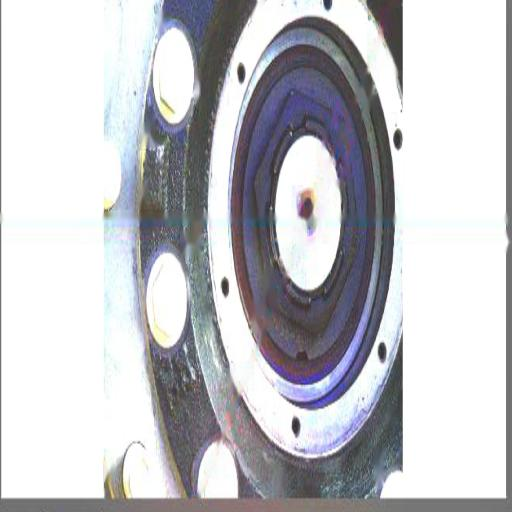center: (298, 191, 316, 225)
notch: (294, 344, 310, 368)
